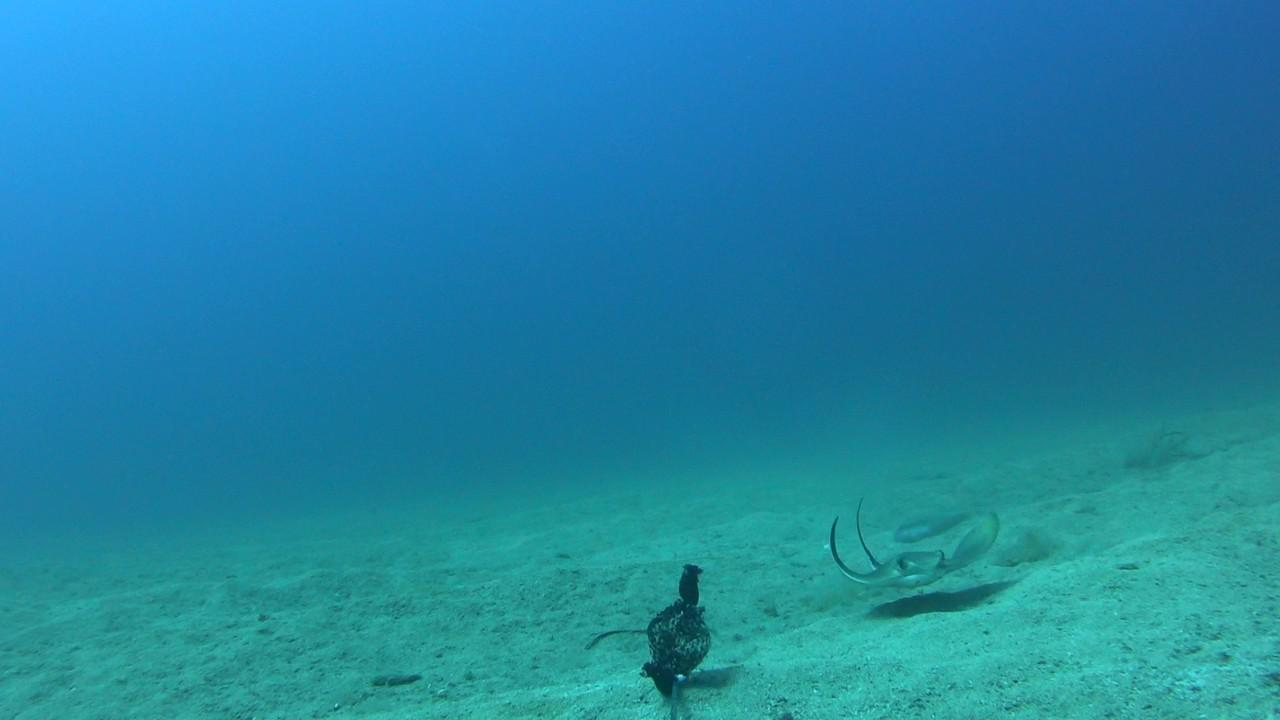myliobatis: (789, 483, 1023, 590)
raor: (895, 504, 974, 546)
